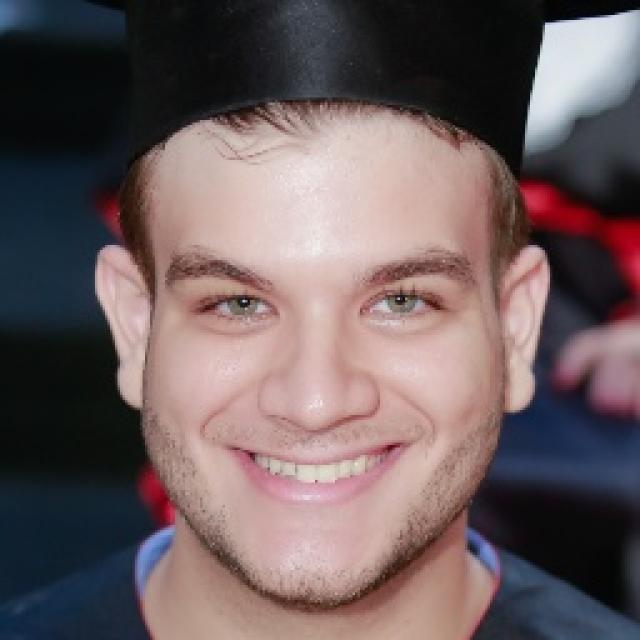earlobe: (501, 364, 536, 415), (116, 370, 144, 413)
eye: (195, 293, 281, 324), (366, 292, 440, 321)
nose: (261, 410, 375, 440)
wholeear: (497, 245, 551, 414), (95, 244, 146, 413)
